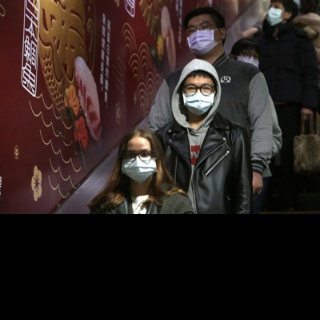with_mask: (186, 19, 223, 56), (121, 147, 156, 184), (181, 80, 216, 114), (235, 48, 260, 68), (268, 3, 287, 26)
